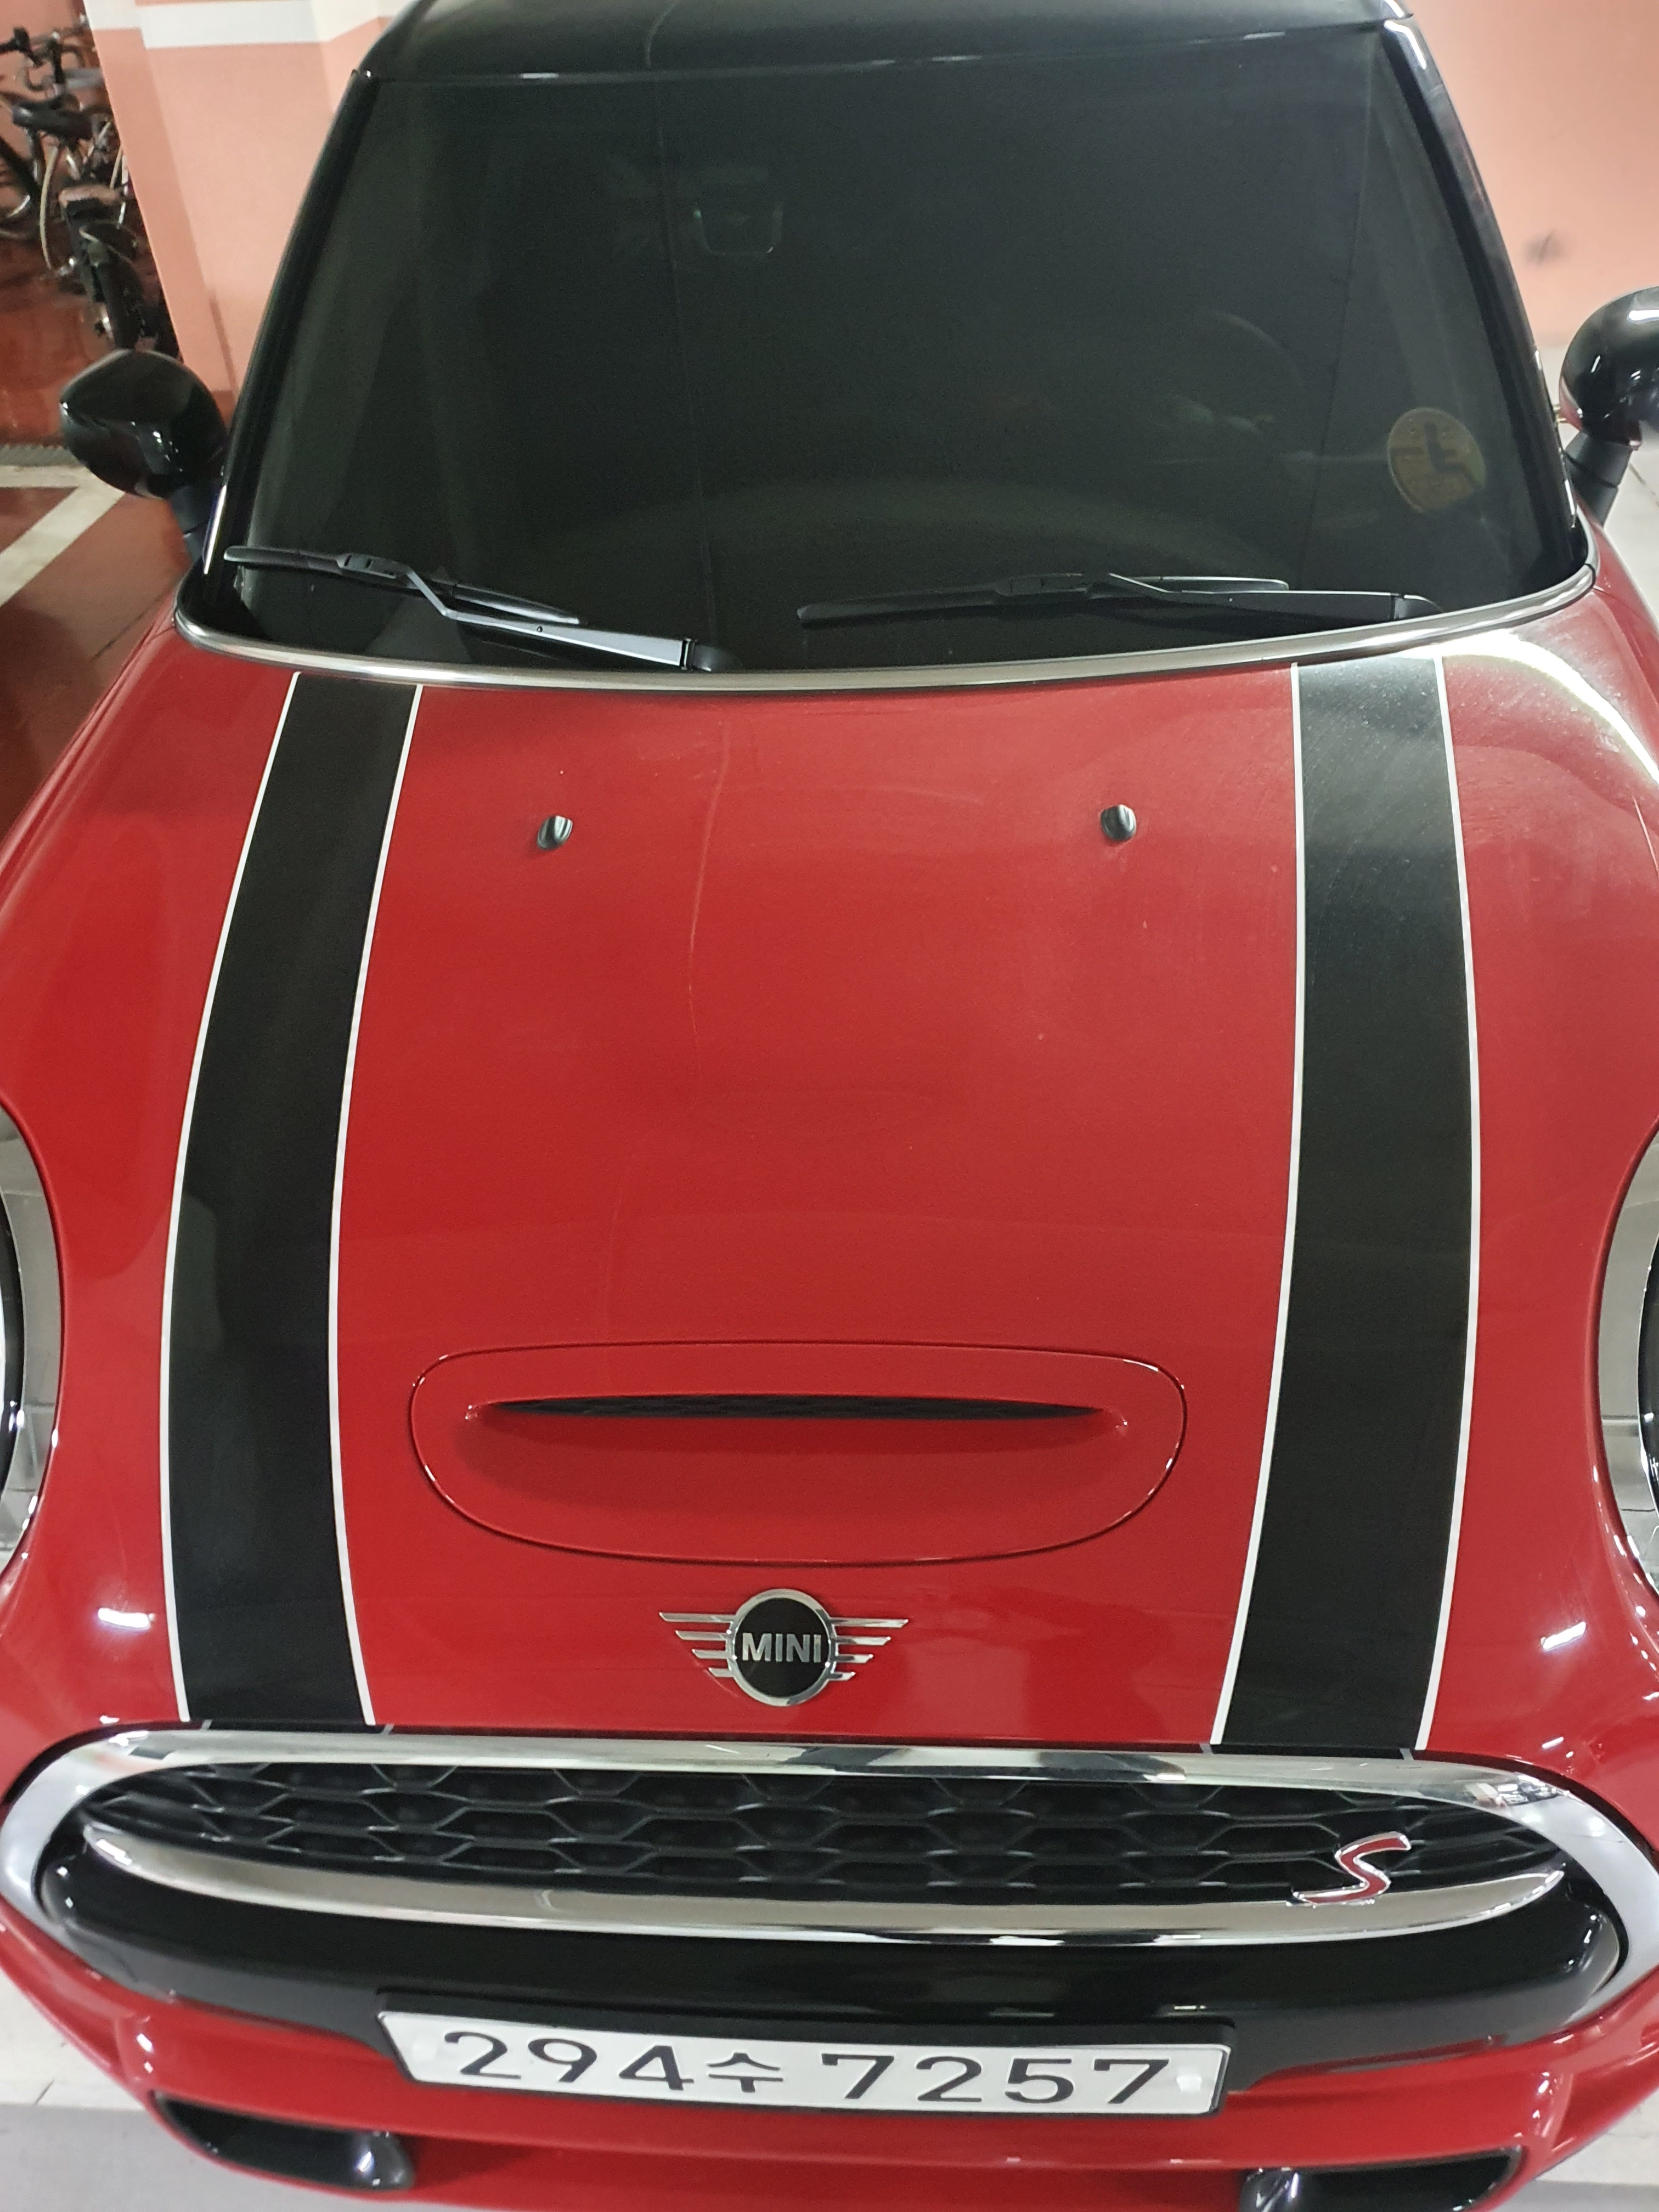disabled_parking: (1378, 406, 1497, 517)
